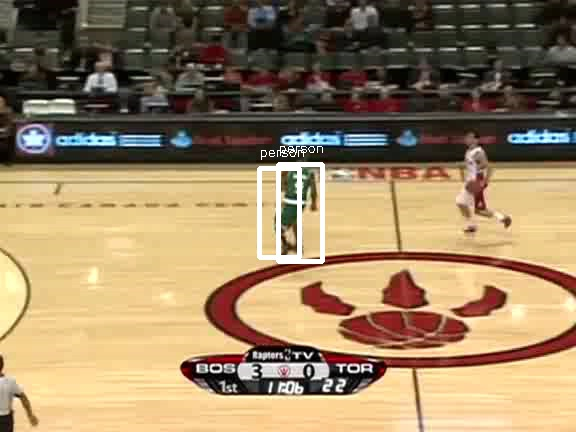person: (279, 157, 313, 238), (278, 157, 312, 238), (280, 157, 314, 238), (279, 156, 313, 237), (279, 158, 313, 239)
target_negative: (253, 133, 348, 429), (136, 297, 413, 317), (549, 110, 568, 389), (505, 8, 543, 140), (562, 61, 564, 337)
